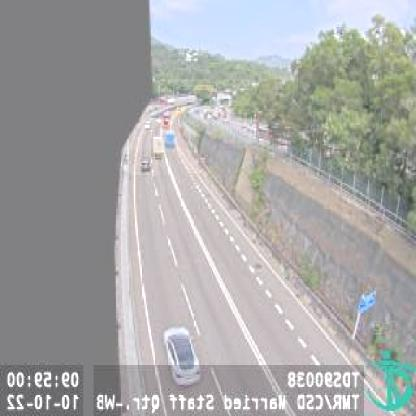Car: (162, 324, 203, 385), (140, 156, 152, 172)
